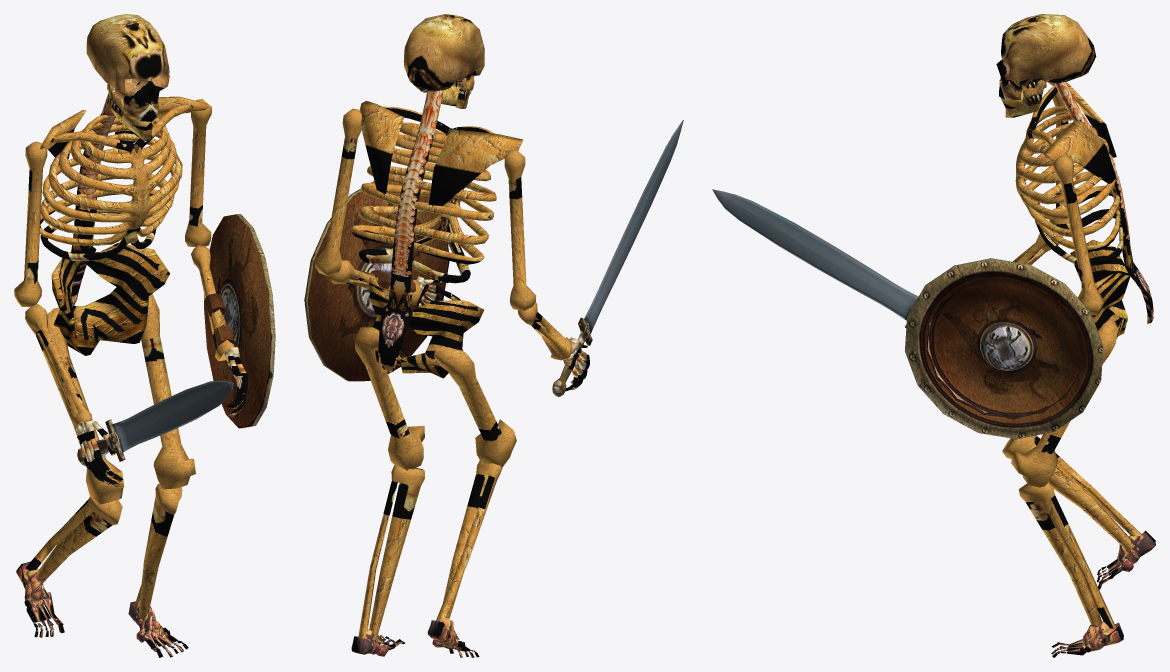
Rendered from Skeleton_000010.obj.
3 views of the same model, side by side, from view 1: azimuth 30°, elevation 25°; view 2: azimuth 150°, elevation 25°; view 3: azimuth 270°, elevation 25° (orthographic). The views are drawn at different scales.
Parts seen in each view (by area): view 1: Costillar, Shield_Shield.001, Coxis, Skull, Femur, Tibia, Humero, Sword, Radio, Feet, Hands, Omoplato (+1 smaller); view 2: Costillar, Shield_Shield.001, Tibia, Femur, Omoplato, Humero, Skull, Coxis, Sword, Radio, Feet, Hands (+1 smaller); view 3: Shield_Shield.001, Costillar, Tibia, Skull, Sword, Omoplato, Humero, Feet, Coxis, Femur, Mandibula.
Part boxes in pixels (box(x1,y1,x2,y2)): Costillar: box(40, 92, 193, 305); Shield_Shield.001: box(204, 214, 275, 428); Coxis: box(51, 243, 169, 355); Skull: box(86, 14, 169, 121); Femur: box(43, 293, 195, 504); Tibia: box(25, 483, 182, 619); Humero: box(14, 99, 212, 306); Sword: box(77, 380, 233, 465); Radio: box(25, 245, 234, 426); Feet: box(16, 561, 188, 657); Hands: box(76, 347, 247, 487); Omoplato: box(40, 96, 209, 159); Costillar: box(351, 90, 496, 372); Shield_Shield.001: box(304, 181, 449, 381); Tibia: box(358, 460, 502, 639); Femur: box(354, 327, 516, 470); Omoplato: box(359, 100, 522, 206); Humero: box(314, 108, 536, 310); Skull: box(403, 14, 484, 92); Coxis: box(369, 277, 483, 378); Sword: box(552, 120, 683, 396); Radio: box(330, 260, 572, 360); Feet: box(351, 618, 479, 657); Hands: box(415, 276, 589, 391); Shield_Shield.001: box(905, 258, 1103, 439); Costillar: box(1015, 82, 1153, 324); Tibia: box(1002, 435, 1143, 628); Skull: box(996, 14, 1096, 100); Sword: box(712, 189, 918, 327); Omoplato: box(1043, 81, 1116, 183); Humero: box(1049, 91, 1104, 315); Feet: box(1051, 530, 1155, 657); Coxis: box(1070, 240, 1130, 338); Femur: box(1009, 320, 1117, 487); Mandibula: box(1000, 79, 1046, 117).
Size of the model in its own units: 2.95 by 8.56 by 5.6.
5 materials, 5 textured.
